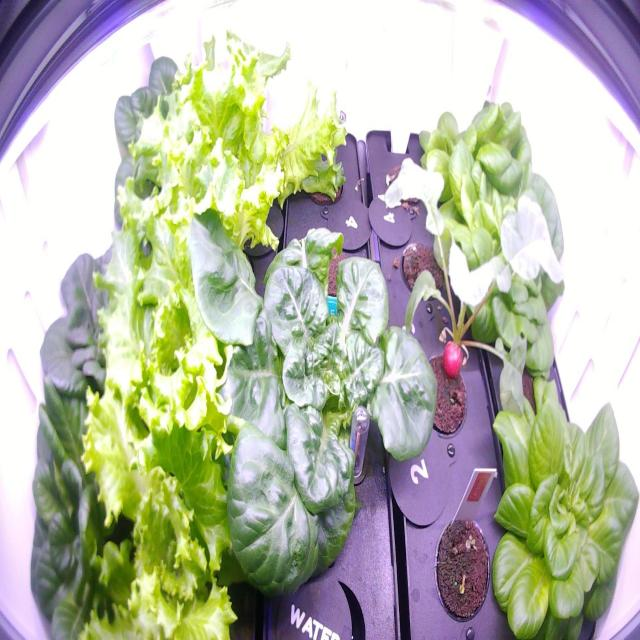Ready: (424, 162, 580, 388)
young: (181, 193, 446, 615), (481, 358, 639, 638), (19, 374, 178, 639), (28, 225, 202, 458), (102, 44, 241, 236), (408, 92, 554, 242)
